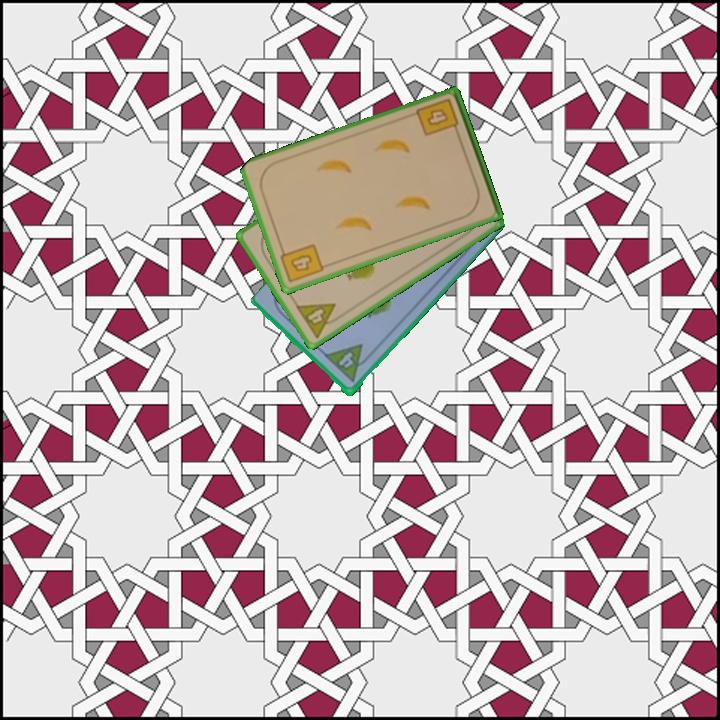4b: (277, 240, 326, 286), (413, 95, 462, 139)
4p: (321, 341, 375, 386), (292, 300, 346, 341)
